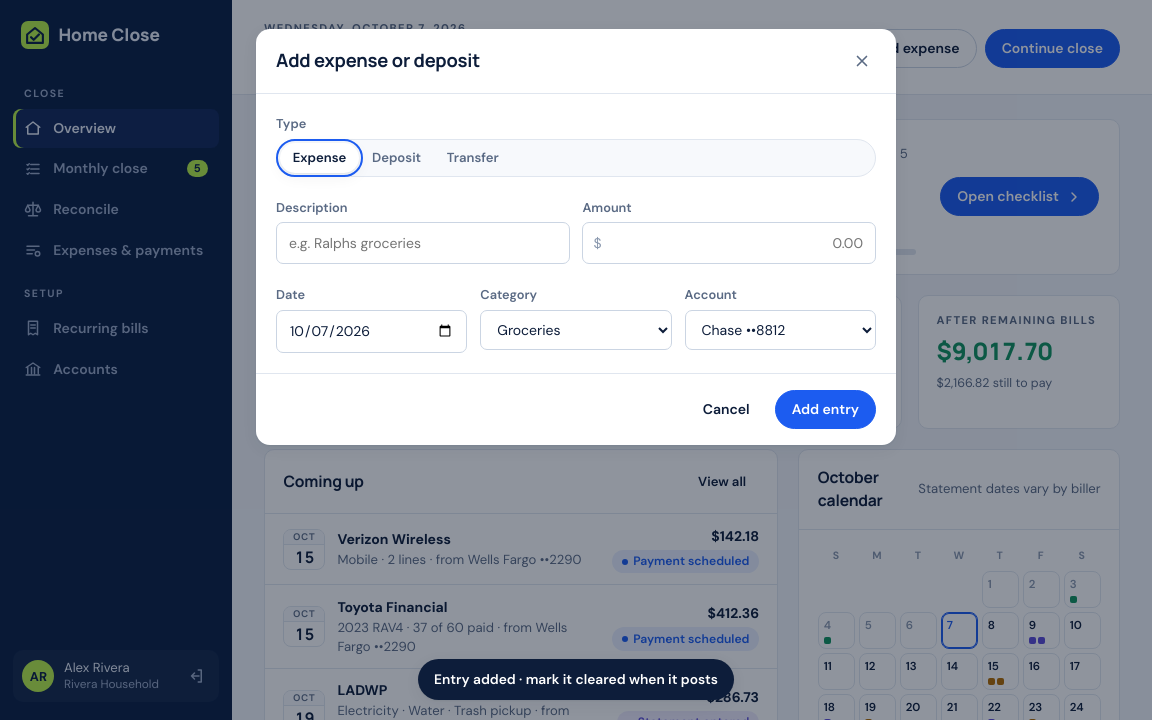
overview › shows field errors without closing the modal
expect the dialog is shown: met, box [256,29,896,445]
Click the button "Add entry" at {"x": 825, "y": 410}, box [775,390,876,429]
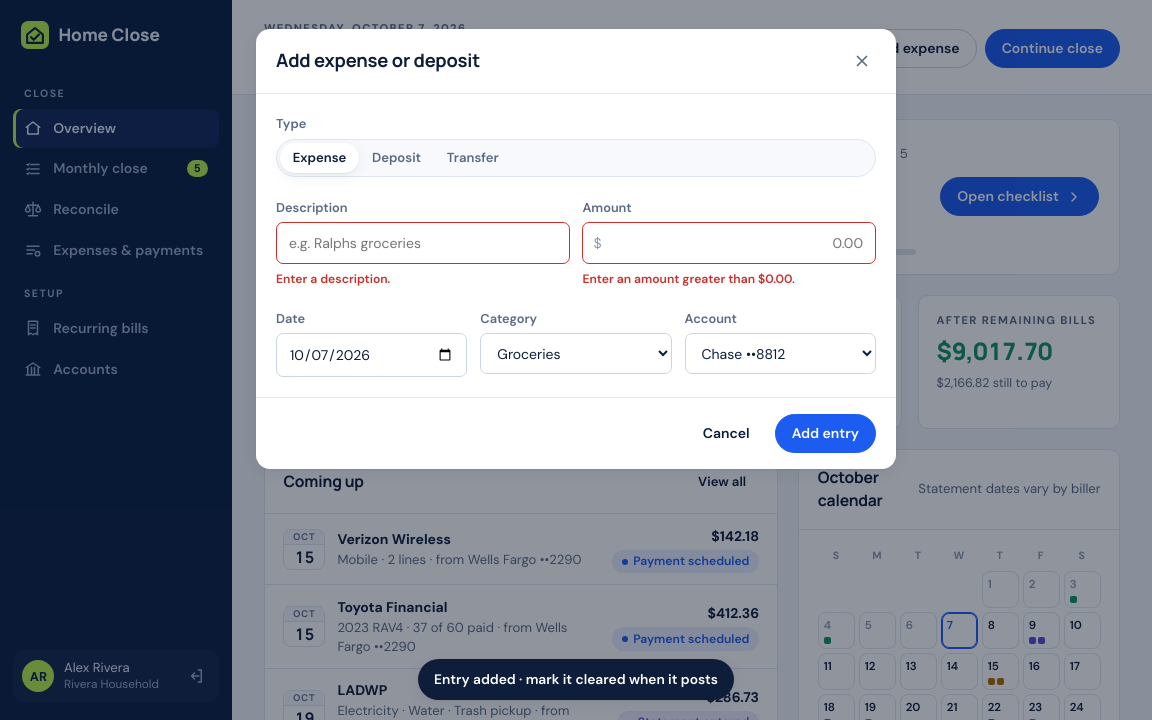
expect the text "Enter a description." is shown: met, box [276,271,390,287]
expect the text "Enter an amount greater than $0.00." is shown: met, box [582,271,795,287]
